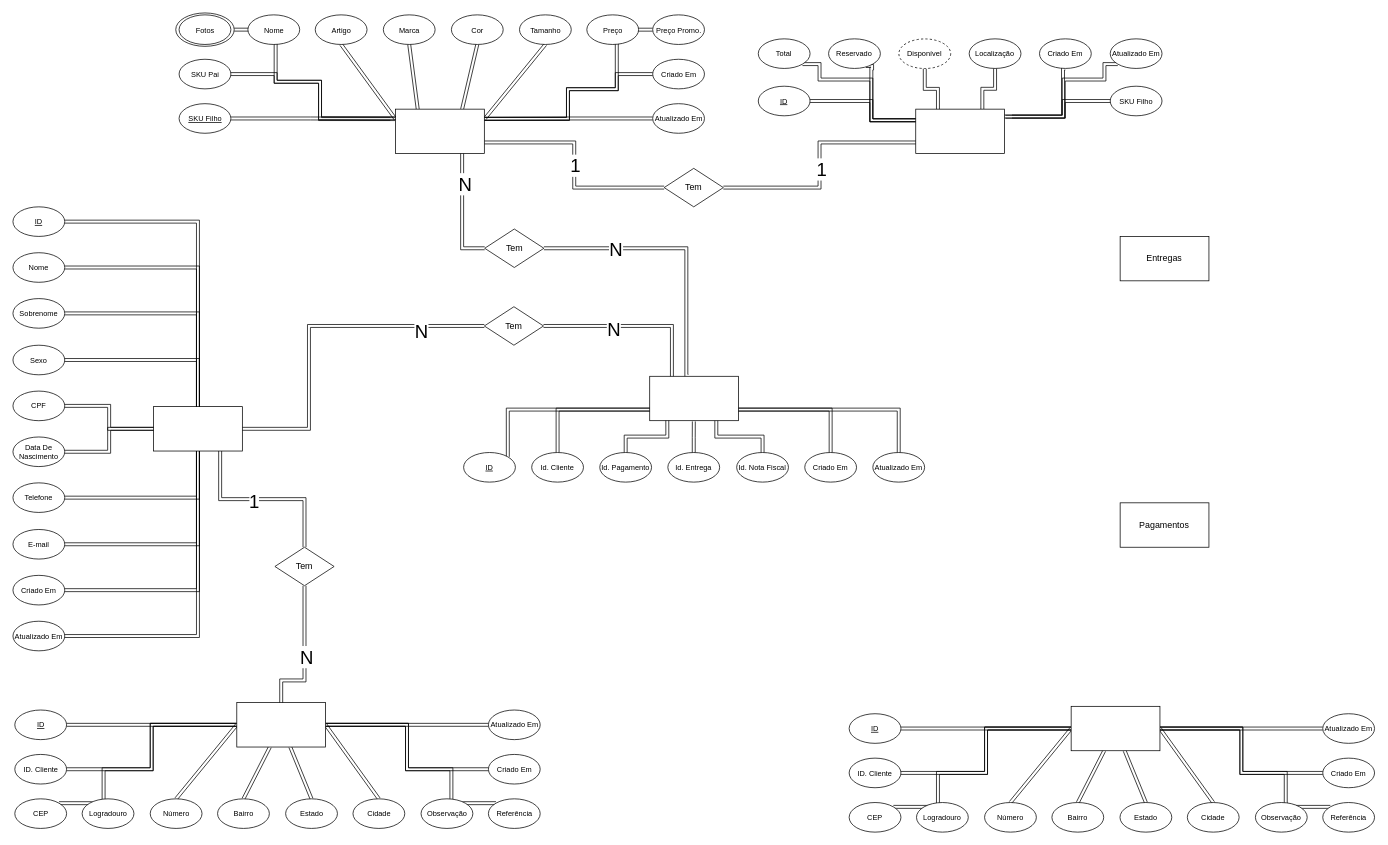
The diagram is 1388 pixels wide and 845 high, and some of its shapes have lost their labels. The shapes that lost their labels are listed below. From the top down, each one's centre as x and y in pixels, then its label:
the point at 439,131: Produtos
the point at 960,131: Estoque
the point at 694,398: Vendas
the point at 197,428: Clientes
the point at 281,724: Endereços
the point at 1115,728: Faturamento
